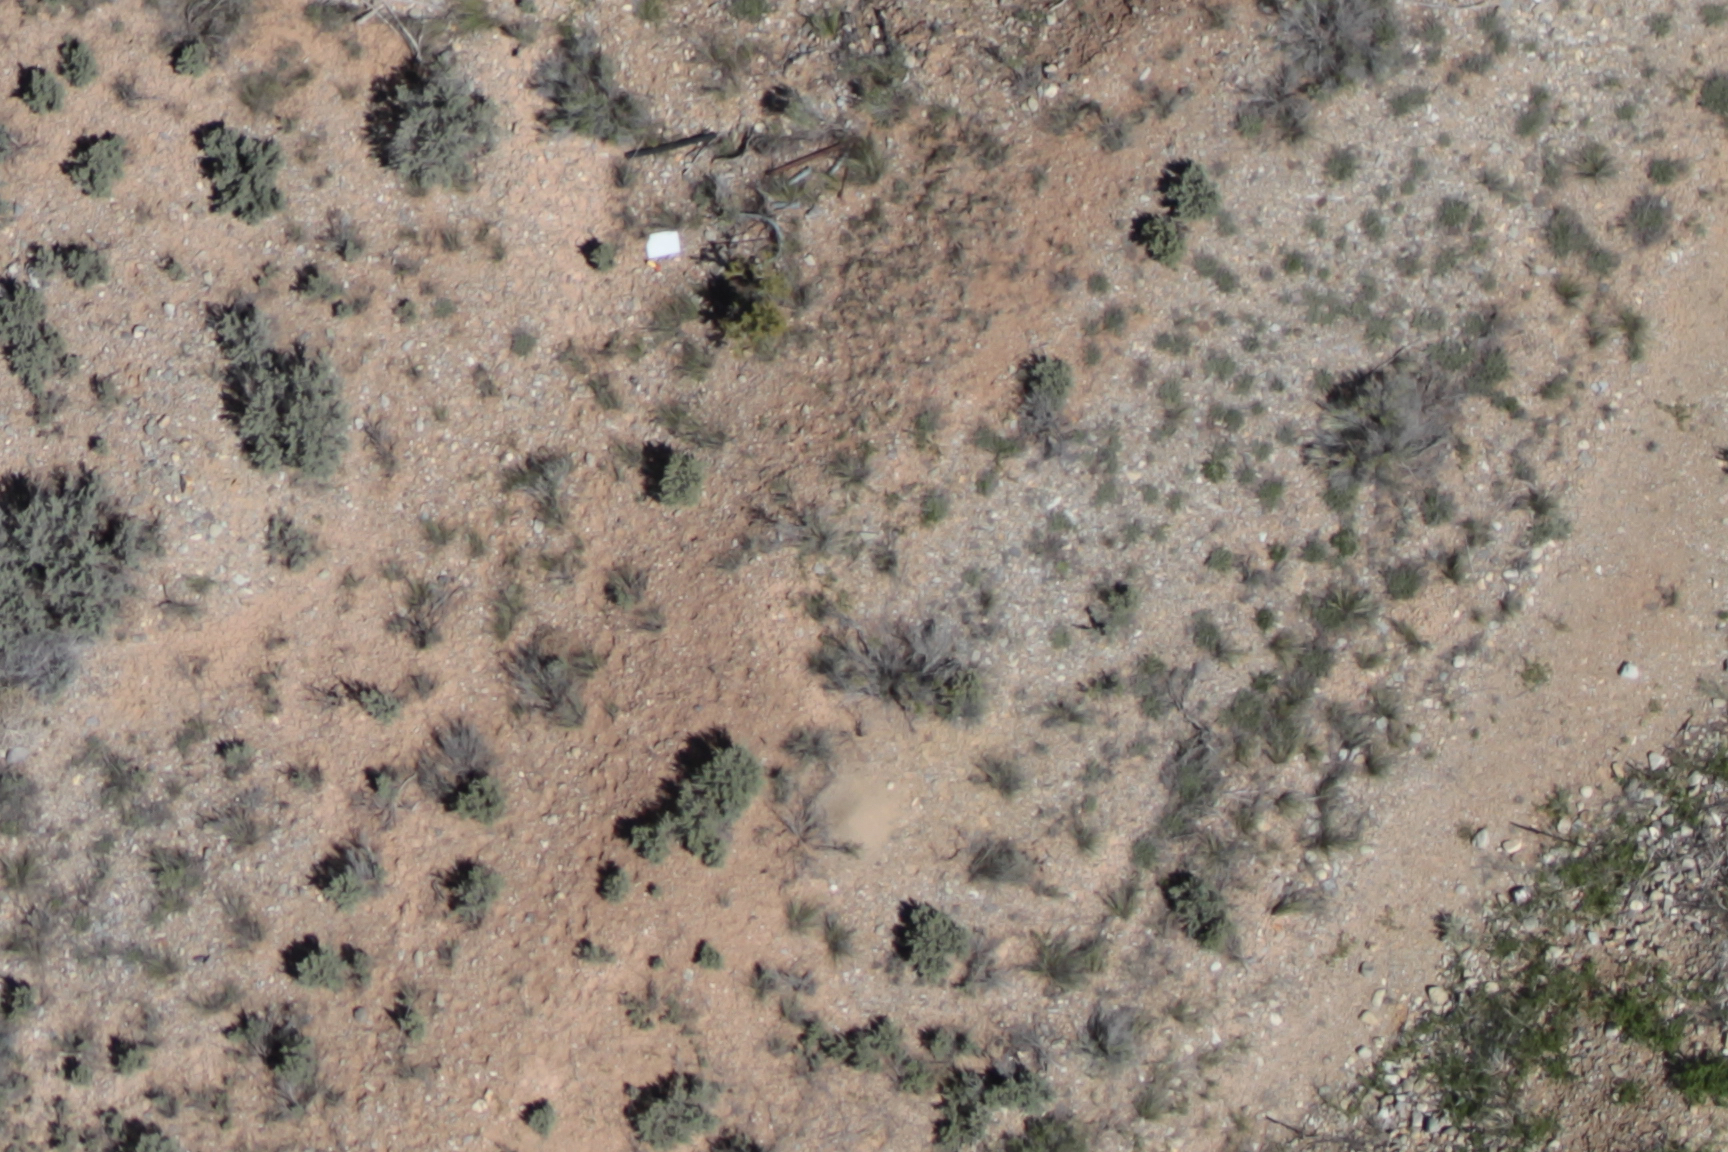burrow: (801, 771, 897, 858)
